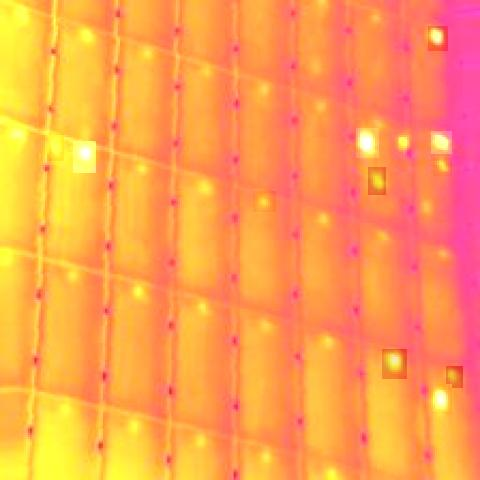fault: (382, 350, 407, 380), (73, 142, 96, 174), (356, 128, 379, 158), (392, 130, 416, 158), (430, 384, 452, 414), (368, 167, 386, 195), (128, 279, 148, 304), (428, 26, 448, 51), (431, 131, 452, 154), (253, 191, 276, 212), (47, 133, 64, 161), (446, 366, 463, 388), (433, 158, 452, 176)
